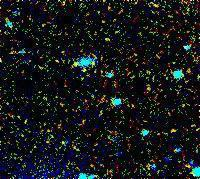star: (59, 51, 89, 81)
